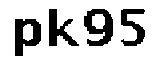5: (117, 6, 147, 48)
9: (82, 6, 113, 51)
k: (45, 5, 78, 50)
p: (13, 14, 43, 60)
